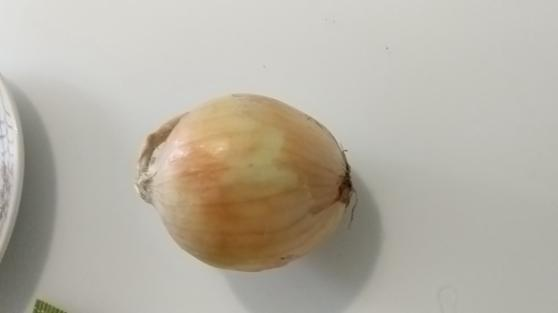onion: (137, 92, 354, 272)
